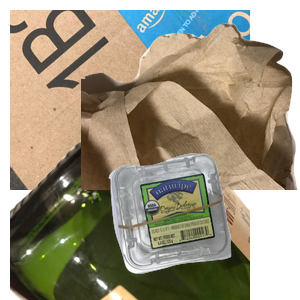cardboard: (10, 10, 250, 190)
glass: (10, 120, 250, 300)
plastic: (106, 151, 300, 300)
trash: (81, 21, 300, 201)
